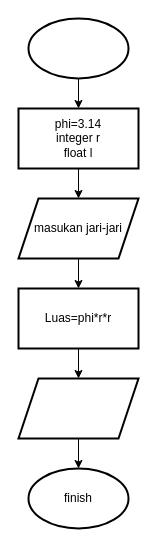
This 156x546 diagram has some shape labels left out. The box of each missing label's shape, as (x1, y1, x2, y2) in pixels:
start: (27, 17, 129, 79)
tampilkan luas lingkaran: (17, 377, 139, 439)
